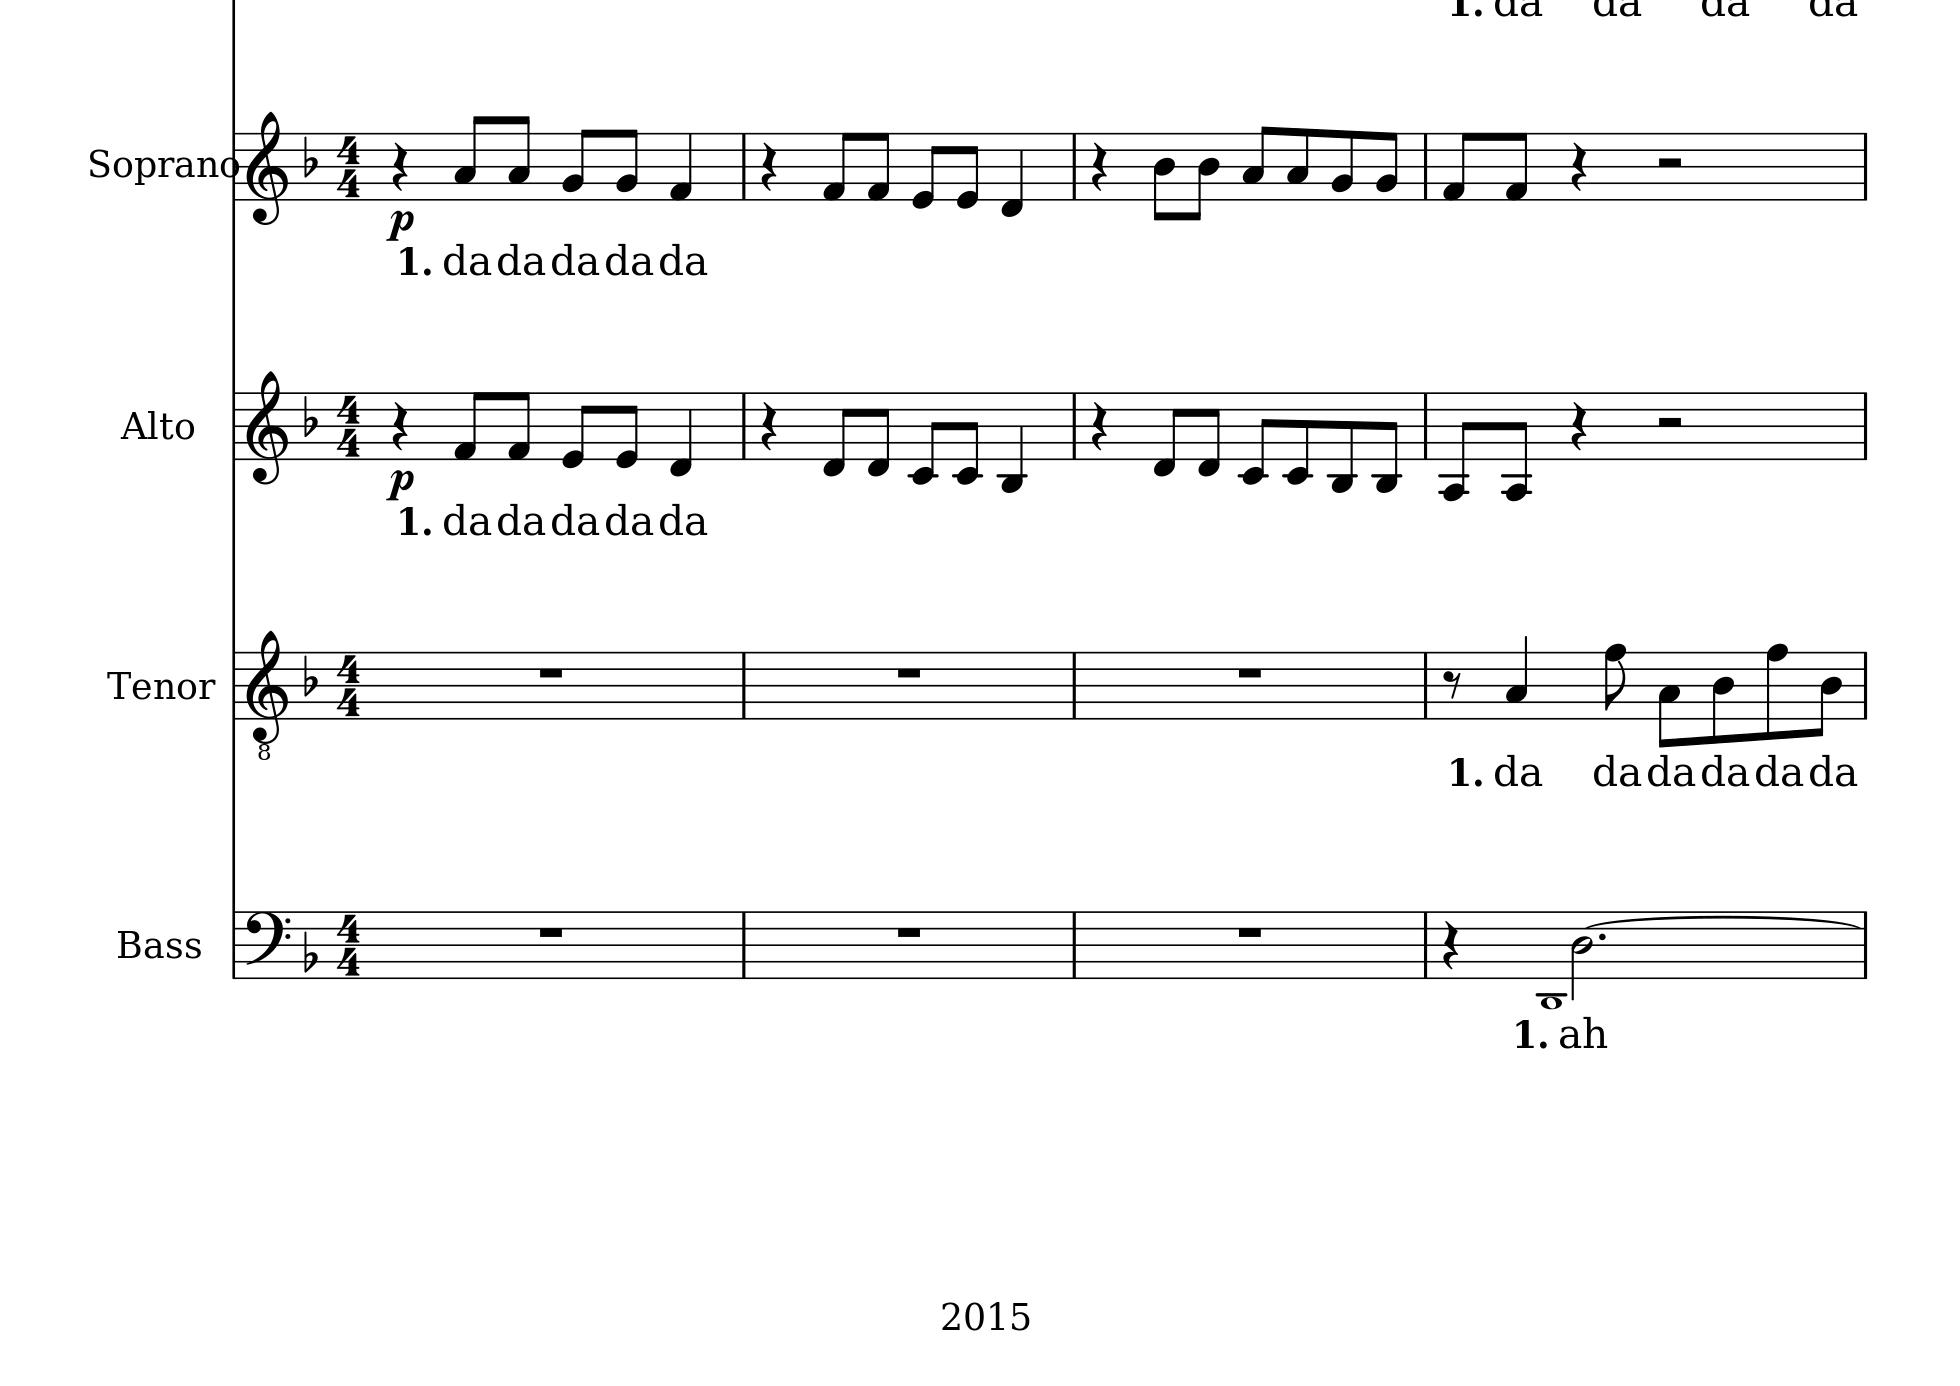2_4: (1570, 907, 1596, 1000)
4: (334, 132, 364, 166), (334, 651, 364, 685), (334, 391, 364, 424), (334, 424, 364, 457), (334, 910, 364, 943), (334, 685, 364, 717), (334, 166, 363, 199), (334, 945, 363, 978)
4_-1: (999, 130, 1026, 219), (667, 390, 694, 478)
4_-3: (999, 390, 1026, 495)
4_1: (667, 130, 694, 202)
4_3: (1504, 634, 1530, 718)
8_-1: (820, 390, 853, 478), (1152, 390, 1185, 478), (1197, 388, 1224, 478), (865, 390, 892, 477)
8_-2: (907, 390, 943, 484), (1239, 390, 1275, 484), (1284, 390, 1314, 486), (952, 390, 982, 484)
8_-3: (1329, 390, 1359, 493), (1374, 388, 1402, 493)
8_-4: (1438, 390, 1473, 501), (1503, 388, 1531, 502)
8_0: (909, 130, 943, 211), (559, 390, 592, 471), (613, 390, 640, 469), (955, 130, 981, 211)
8_1: (451, 388, 486, 462), (820, 130, 853, 202), (1441, 130, 1474, 202), (505, 388, 532, 463), (865, 130, 892, 202), (1503, 130, 1530, 202)
8_2: (559, 127, 592, 202), (613, 127, 640, 202), (1330, 127, 1356, 202), (1377, 130, 1401, 202)
8_3: (451, 114, 484, 202), (1657, 649, 1683, 748), (1242, 124, 1273, 202), (505, 114, 532, 202), (1287, 126, 1311, 202)
8_4: (1809, 648, 1845, 739), (1188, 130, 1221, 223), (1710, 649, 1737, 744), (1152, 130, 1177, 223)
8_8: (1761, 640, 1791, 742), (1603, 640, 1629, 721)
Bass: (114, 925, 202, 964)
Fclef: (243, 909, 291, 979)
Flat: (300, 391, 319, 438), (300, 651, 319, 697), (300, 133, 319, 178), (301, 928, 319, 973)
Gclef: (244, 369, 289, 487), (244, 109, 289, 226)
Lower_Gclef: (244, 628, 289, 760)
Rests1: (535, 663, 567, 682), (892, 663, 925, 681), (892, 922, 925, 940), (1234, 663, 1266, 681), (535, 922, 567, 940), (1234, 922, 1266, 940)
Rests2: (1653, 412, 1686, 432), (1653, 154, 1686, 172)
Rests4: (388, 139, 409, 193), (757, 139, 778, 193), (1089, 139, 1110, 193), (1569, 139, 1590, 193), (388, 399, 409, 451), (757, 400, 778, 453), (1089, 400, 1110, 453), (1569, 399, 1590, 451), (1441, 919, 1461, 970)
Rests8: (1441, 667, 1464, 700)
Single_barline: (1855, 132, 1875, 199), (1857, 391, 1875, 459), (1857, 912, 1875, 978), (228, 132, 244, 202), (1858, 649, 1875, 720), (1417, 391, 1434, 460), (1417, 651, 1434, 718), (1417, 910, 1434, 978), (735, 133, 751, 199), (1066, 133, 1083, 199), (735, 912, 751, 976), (226, 649, 241, 720), (226, 391, 241, 460), (1068, 391, 1083, 460), (1419, 132, 1434, 199), (736, 391, 751, 459), (226, 910, 241, 978), (736, 652, 751, 718), (1068, 652, 1083, 718), (1068, 912, 1083, 976)
TimeSig: (334, 132, 363, 199), (334, 391, 363, 457), (334, 651, 363, 717), (334, 910, 363, 976)
dot: (1596, 931, 1608, 943)
p: (382, 466, 415, 502), (384, 207, 415, 241)
